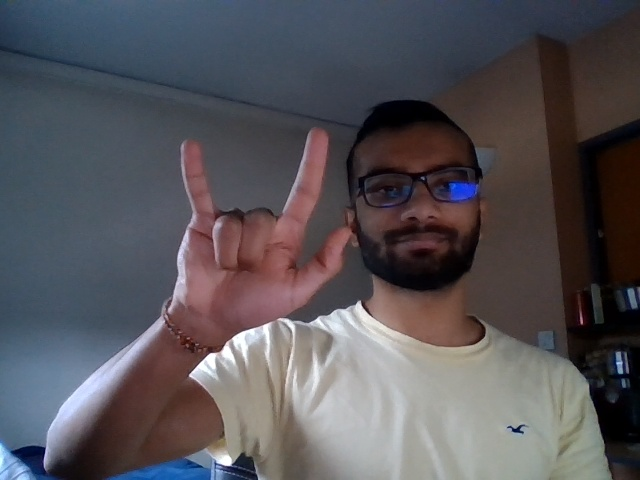I Love You: (155, 116, 355, 329)
